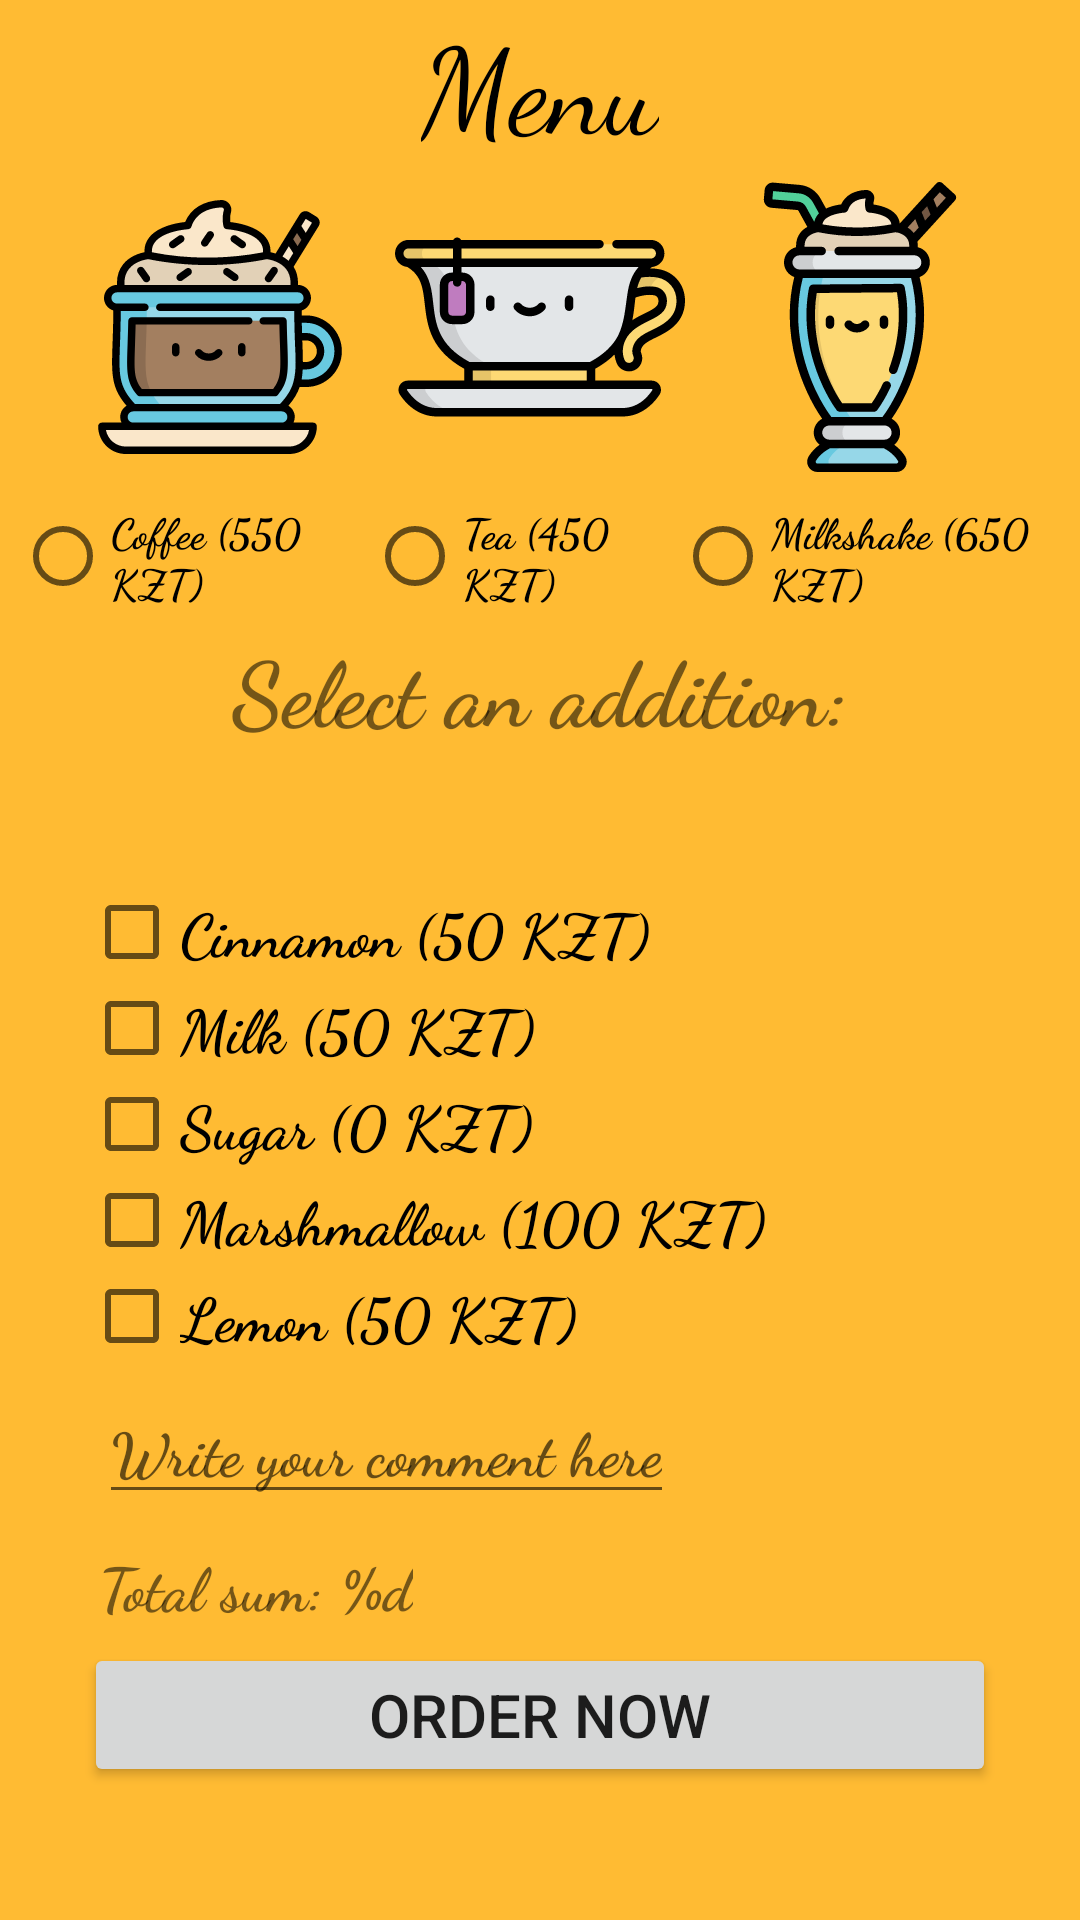

Screen size 1080 x 1920. Icon name, then its box in pixels as (left=x1, top=y1, right=x2, bottom=y2):
hot chocolate: (left=98, top=200, right=342, bottom=454)
